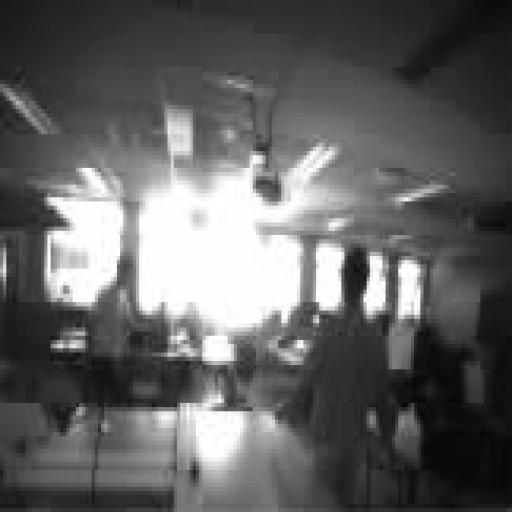human: (279, 244, 395, 503), (89, 256, 135, 402)
